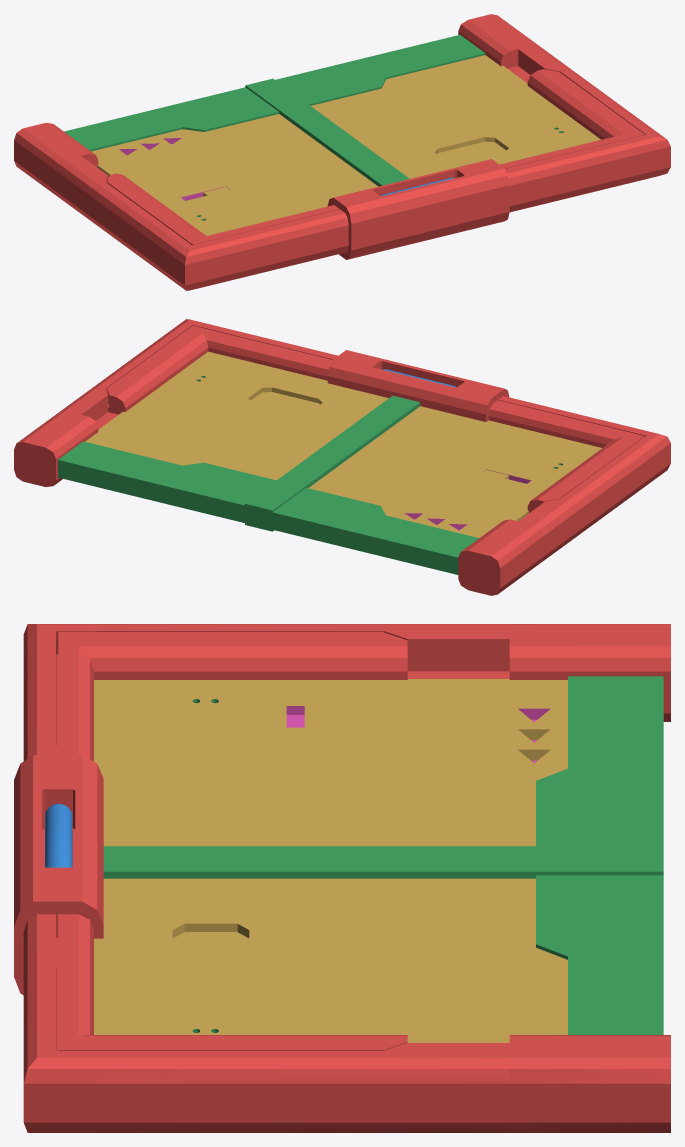
Rendered from doorA2.fbx.
3 renders of one model, top to bottom at view 1: azimuth 30°, elevation 25°; view 2: azimuth 150°, elevation 25°; view 3: azimuth 270°, elevation 25°, orthographic. The views are drawn at different scales.
Visible parts, largest first — view 1: outline_high, right_door_high, left door_high; view 2: outline_high, right_door_high, left door_high; view 3: outline_high, right_door_high, left door_high.
Part boxes in pixels (x1,y1,x2,y2): outline_high: [14, 14, 670, 290]; right_door_high: [64, 82, 395, 235]; left door_high: [260, 35, 600, 181]; outline_high: [14, 319, 670, 595]; right_door_high: [258, 399, 601, 574]; left door_high: [58, 351, 405, 528]; outline_high: [14, 624, 670, 1132]; right_door_high: [94, 676, 663, 858]; left door_high: [94, 859, 663, 1042].
Size of the model in its own units: 666 by 69.26 by 412.
